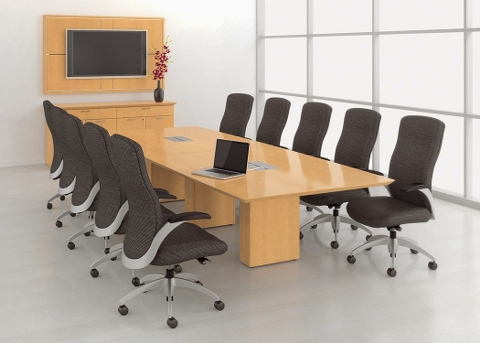kursi: (110, 134, 228, 329), (346, 116, 445, 277), (299, 108, 381, 248), (80, 122, 128, 279), (55, 112, 101, 229), (47, 104, 82, 208)
meja: (106, 125, 396, 269)
